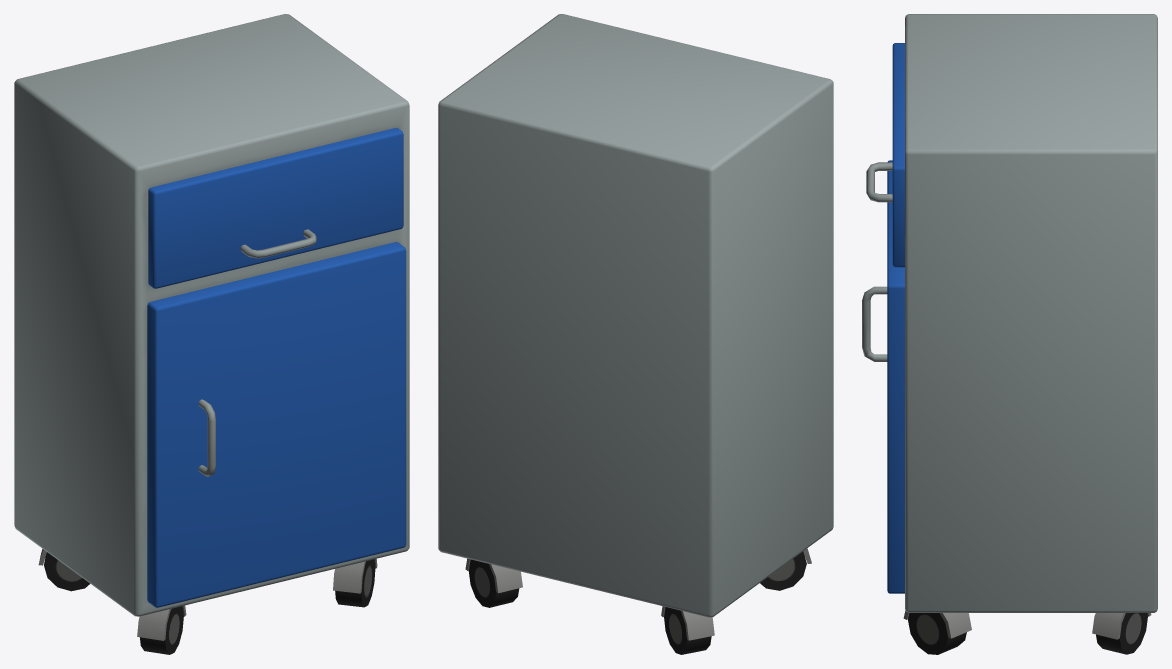
Rendered from patient cabinet.FBX.
3 views of the same model, side by side, from view 1: azimuth 30°, elevation 25°; view 2: azimuth 150°, elevation 25°; view 3: azimuth 270°, elevation 25° (orthographic). The views are drawn at different scales.
Visible parts, largest first — view 1: patient cabinet; view 2: patient cabinet; view 3: patient cabinet.
Part boxes in pixels (bbox=[...]): patient cabinet: bbox=[14, 14, 409, 654]; patient cabinet: bbox=[438, 14, 833, 654]; patient cabinet: bbox=[862, 14, 1157, 654].
Bounding box in the file's own units: 17.25 × 15.6 × 30.2.
